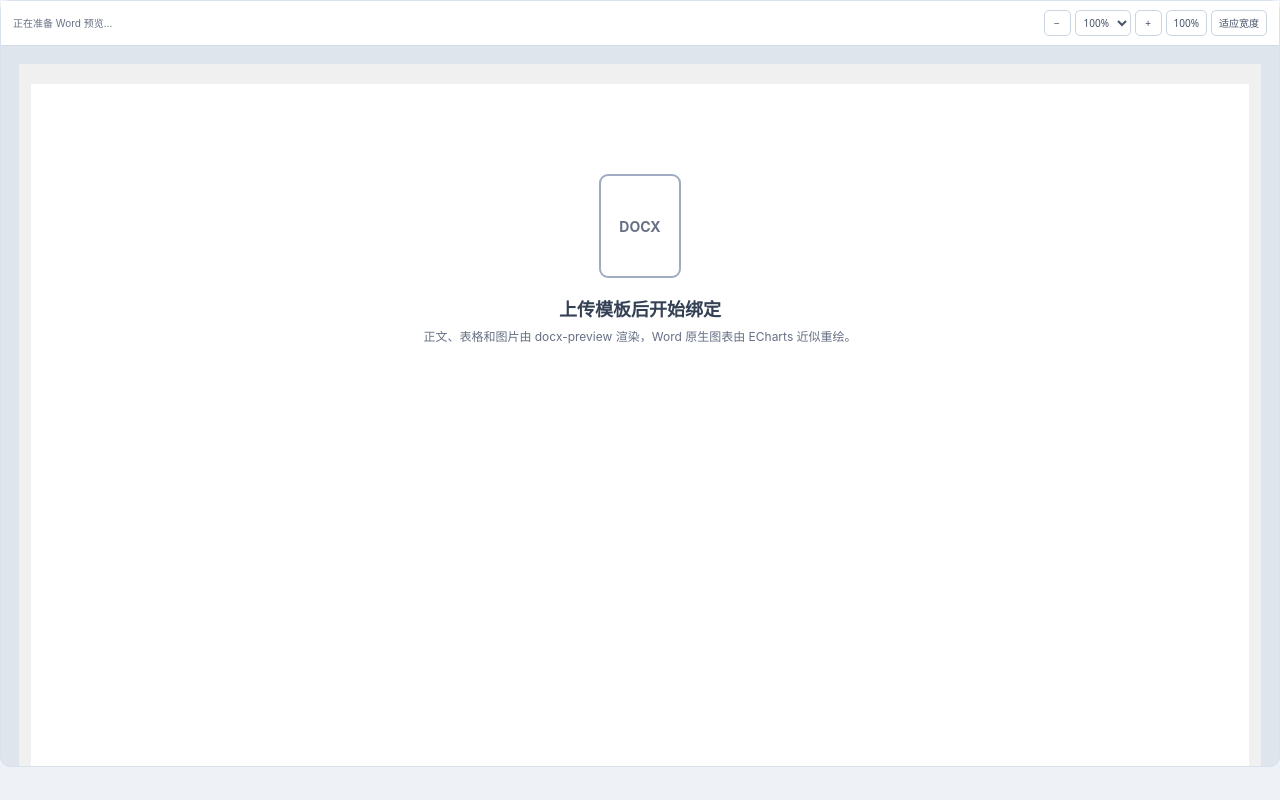
StudioStructurePreview zoom controls › fits a wide page to the canvas and keeps supported zoom steps
The width and height of the screenshot is (1280, 800).
Click the button "适应宽度".
click(1239, 23)  # box [1211,10,1267,36]
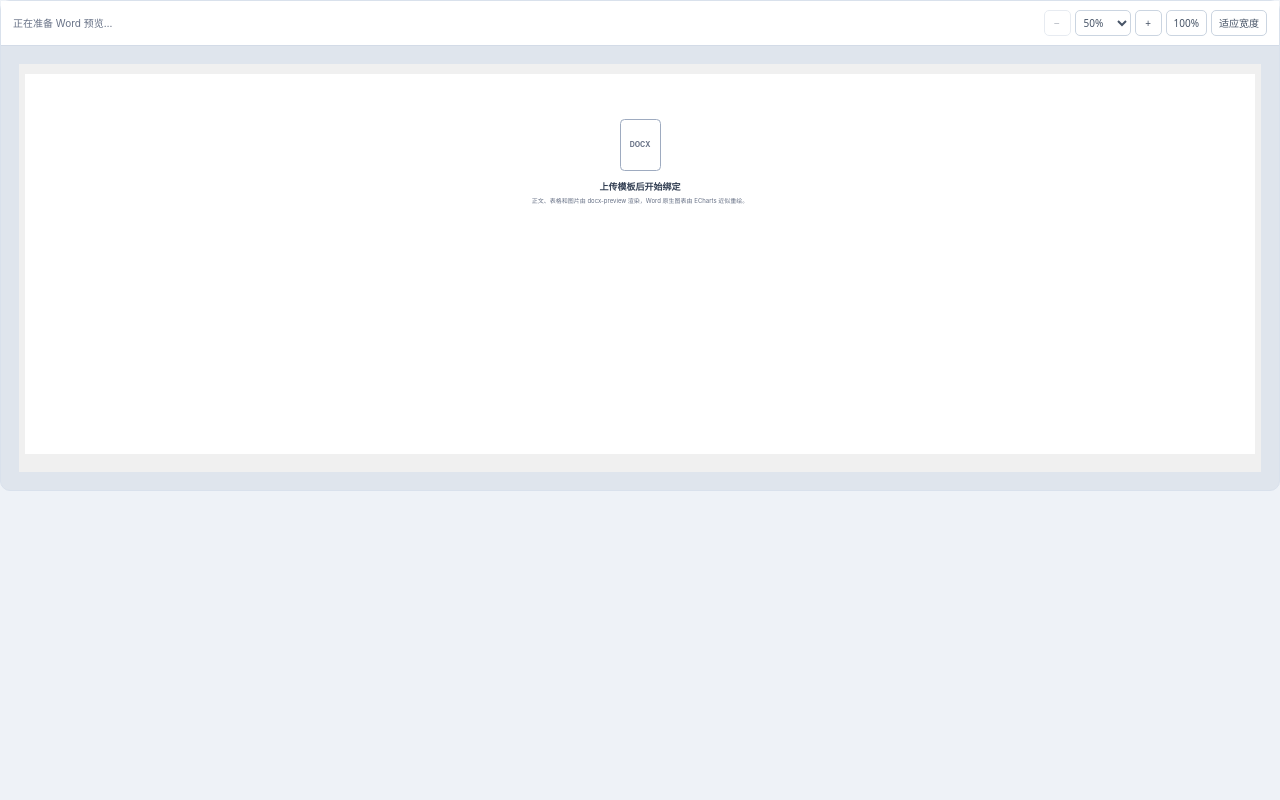
Check: the dropdown named "Word 预览缩放比例" shows "50%", box [1074,10,1130,36]
